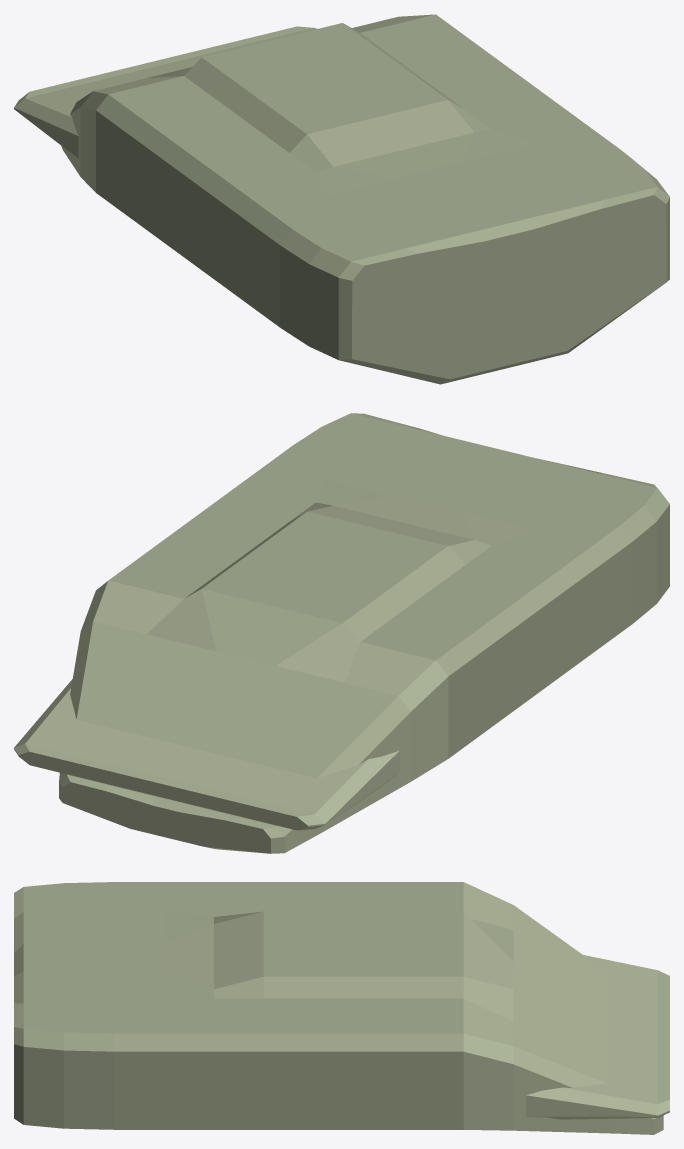
Rendered from hartmann_oddball_a.glb.
3 views of the same model, one above another, from view 1: azimuth 30°, elevation 25°; view 2: azimuth 150°, elevation 25°; view 3: azimuth 270°, elevation 25° (orthographic). The views are drawn at different scales.
Parts seen in each view (by area): view 1: hartmann_oddball_a; view 2: hartmann_oddball_a; view 3: hartmann_oddball_a.
Part boxes in pixels (x1,y1,x2,y2): hartmann_oddball_a: (14, 14, 669, 384); hartmann_oddball_a: (14, 413, 669, 853); hartmann_oddball_a: (14, 882, 669, 1134).
Size of the model in its own units: 4 by 1.73 by 6.8.
